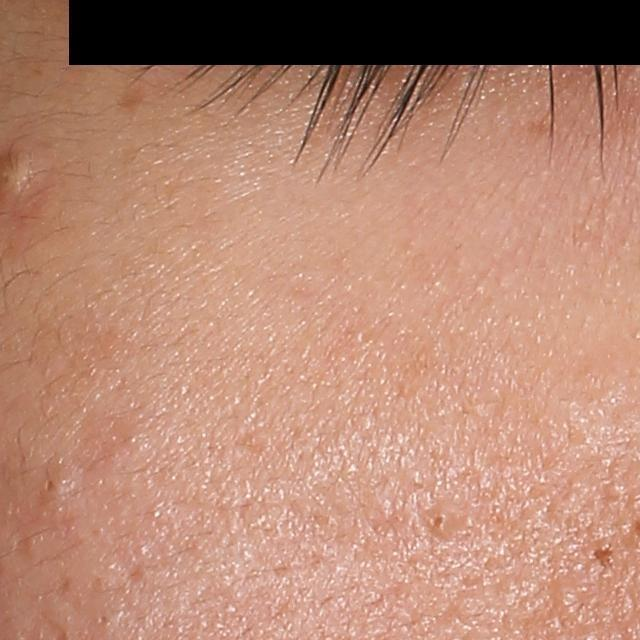comedo: (422, 508, 453, 541), (95, 609, 112, 630)
melasma: (118, 138, 170, 183), (509, 113, 559, 144), (114, 87, 150, 118)
